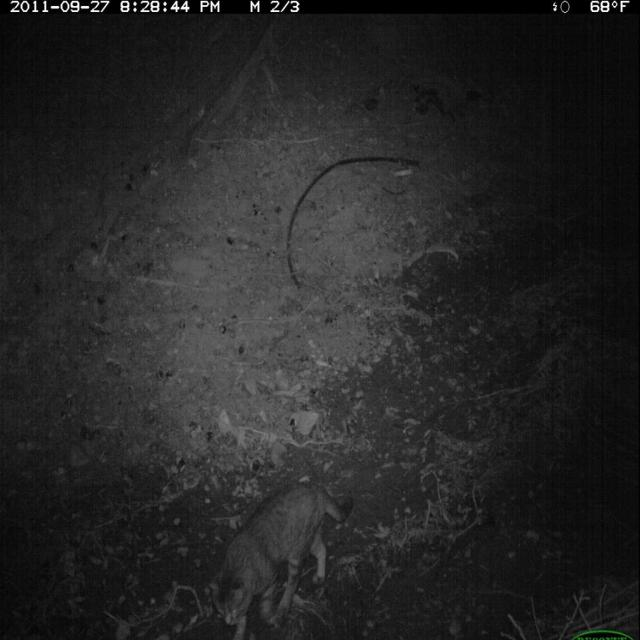cat: (207, 471, 360, 640)
